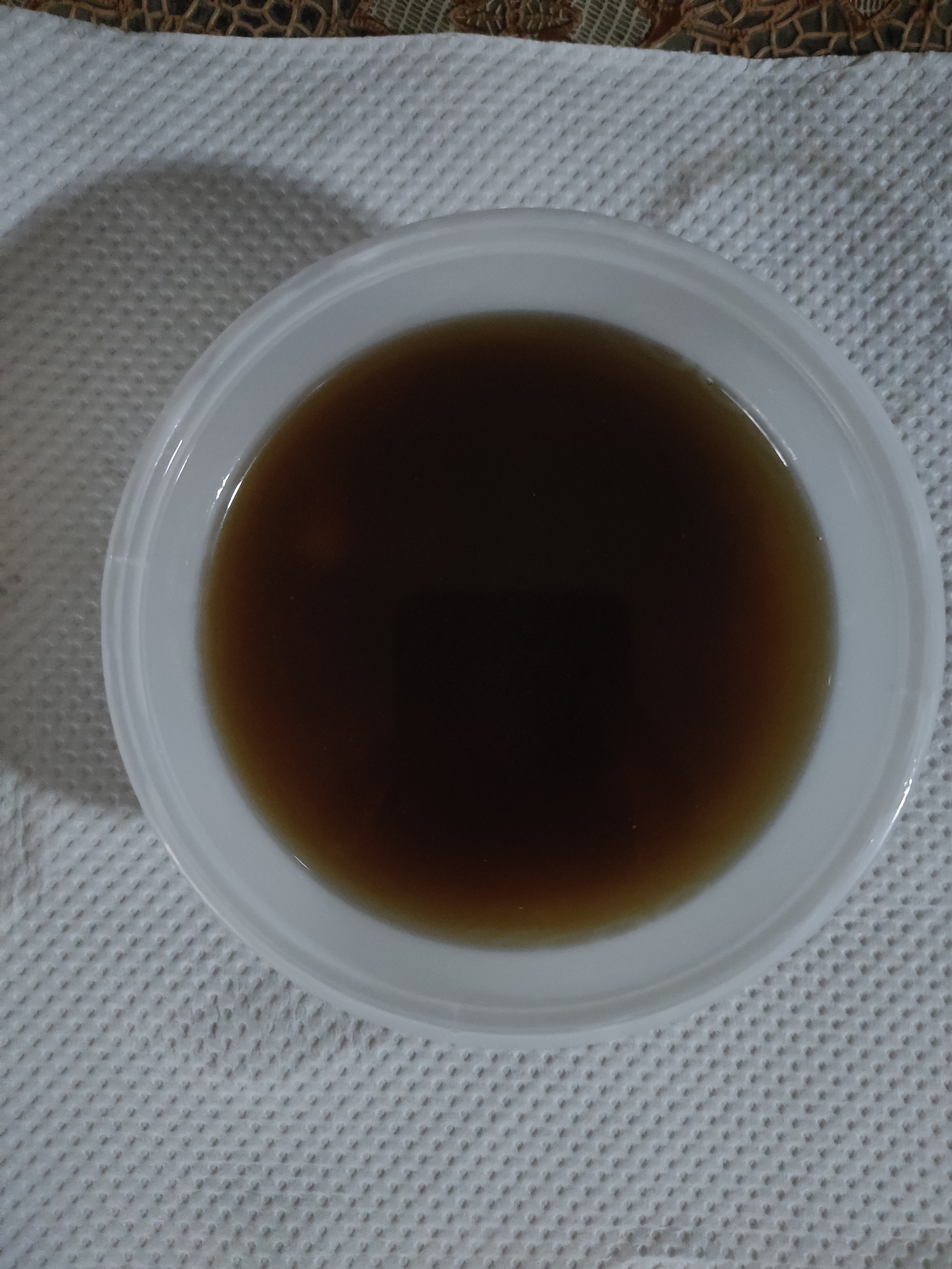non-reusable: (153, 293, 858, 969)
